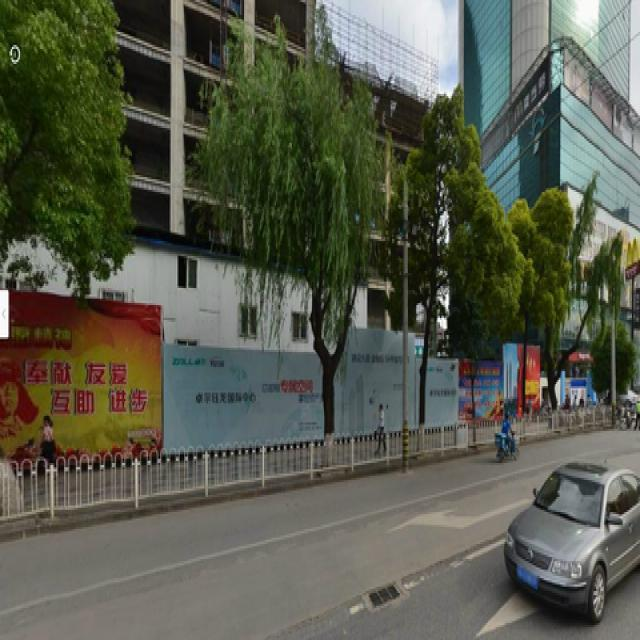plat: (228, 30, 381, 431)
